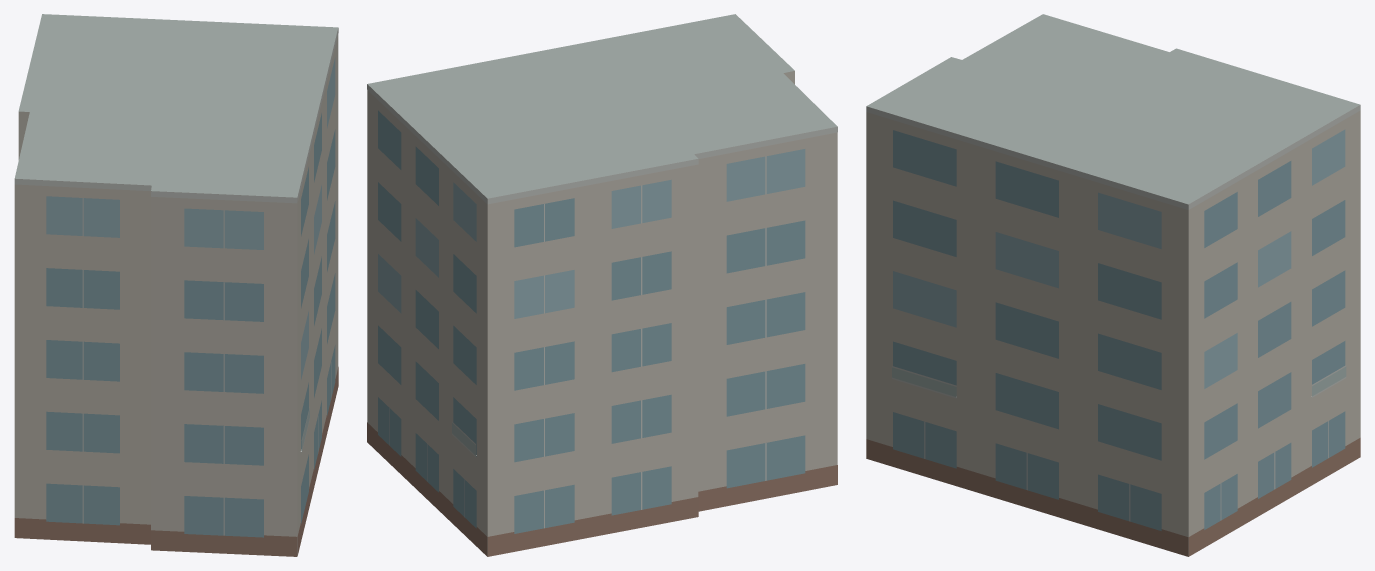
The model's file is survey-upis-32899974.glb.
3 renders of one model, left to right at view 1: azimuth 30°, elevation 25°; view 2: azimuth 150°, elevation 25°; view 3: azimuth 270°, elevation 25°, orthographic.
Parts seen in each view (by area): view 1: survey-upis-32899974.tmp; view 2: survey-upis-32899974.tmp; view 3: survey-upis-32899974.tmp.
Part boxes in pixels (x1,y1,x2,y2): survey-upis-32899974.tmp: (14, 14, 338, 556); survey-upis-32899974.tmp: (367, 14, 837, 556); survey-upis-32899974.tmp: (866, 14, 1360, 556).
Bounding box in the file's own units: 17.69 × 15.25 × 19.4.
